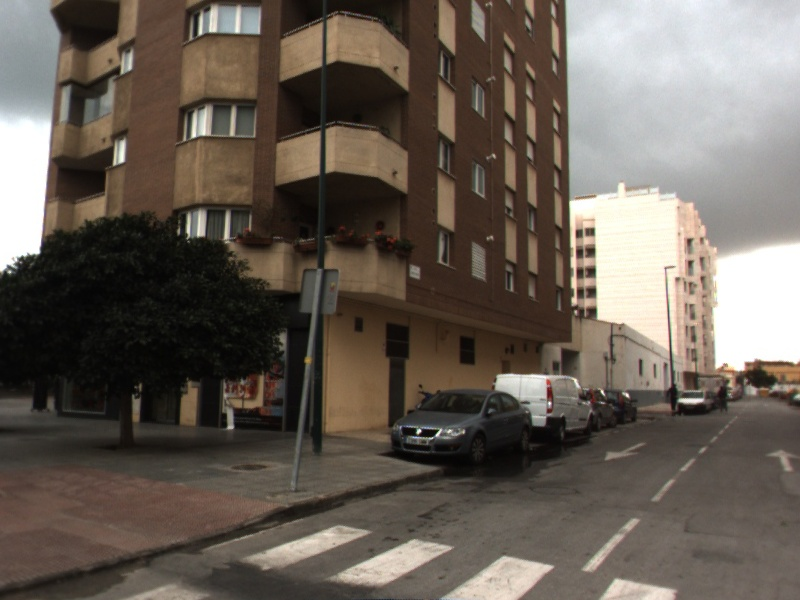STRAIGHT: (763, 447, 800, 474)
